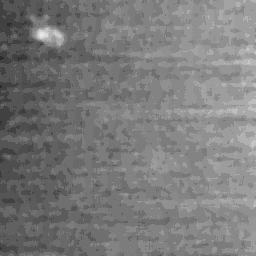con: (25, 13, 78, 56)
